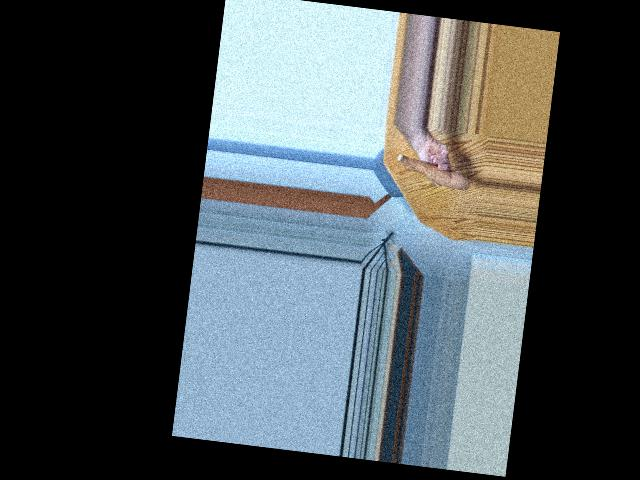sweet_potato: (396, 153, 469, 195)
